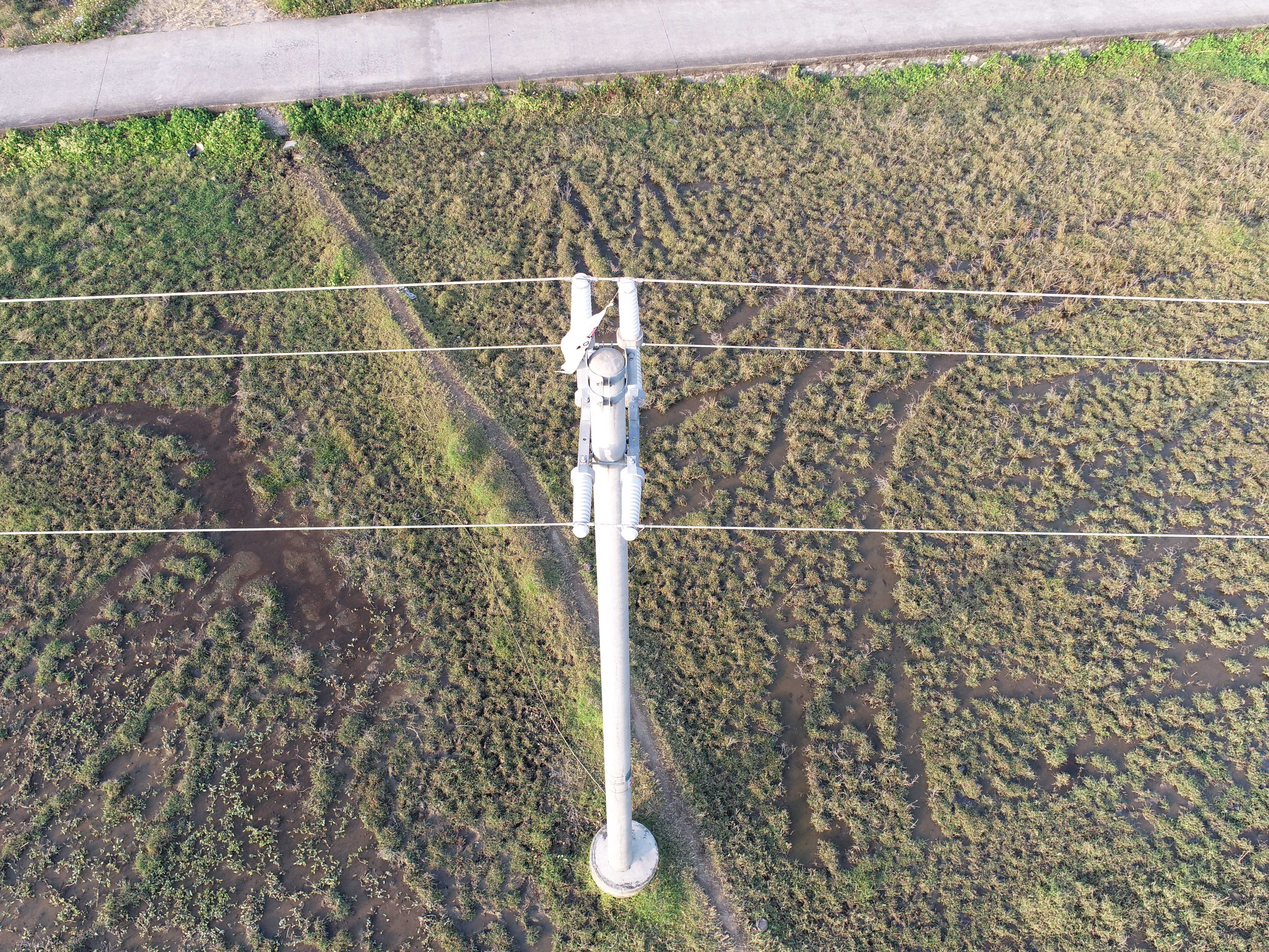异物: (554, 291, 618, 375)
